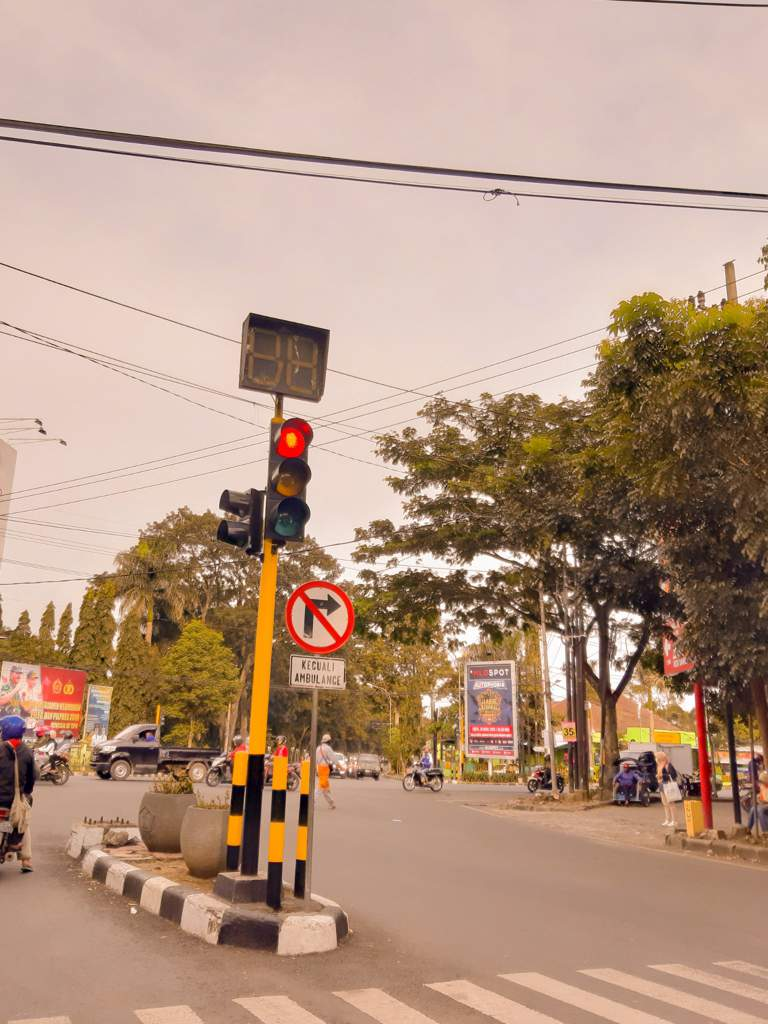bollard: (267, 756, 291, 903), (295, 769, 320, 895), (225, 752, 247, 875)
trafficlight: (269, 420, 324, 549)
zebracross: (6, 962, 768, 1018)
